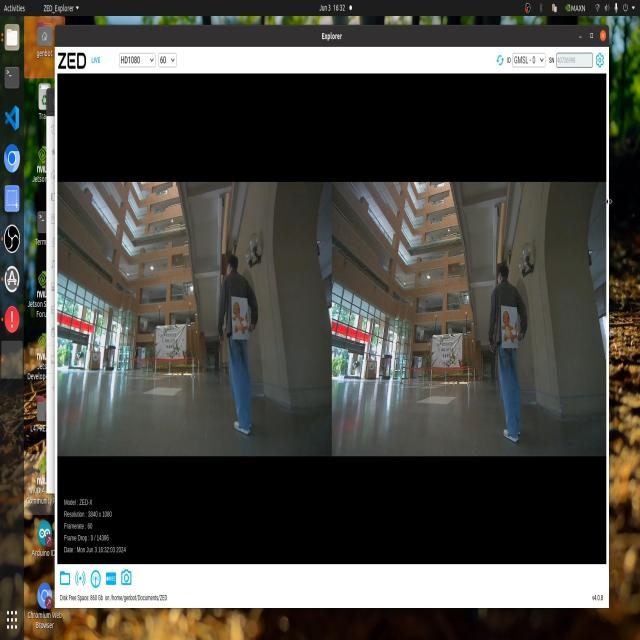red: (493, 301, 523, 352), (233, 298, 255, 342)
